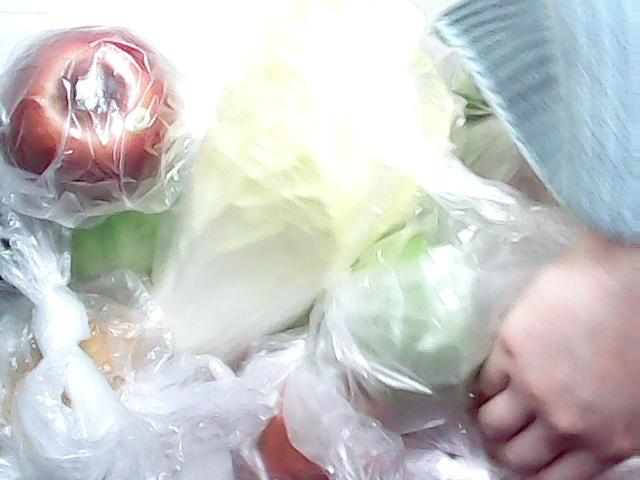apple: (0, 24, 192, 220)
cabbage: (458, 30, 580, 202), (60, 200, 168, 284)
napa cabbage: (116, 16, 448, 394)
peach: (230, 332, 410, 480)
potato: (0, 308, 152, 448)
